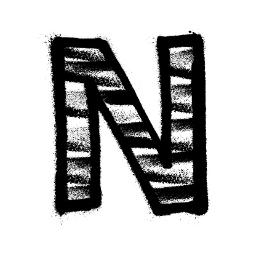n: (42, 22, 218, 228)
